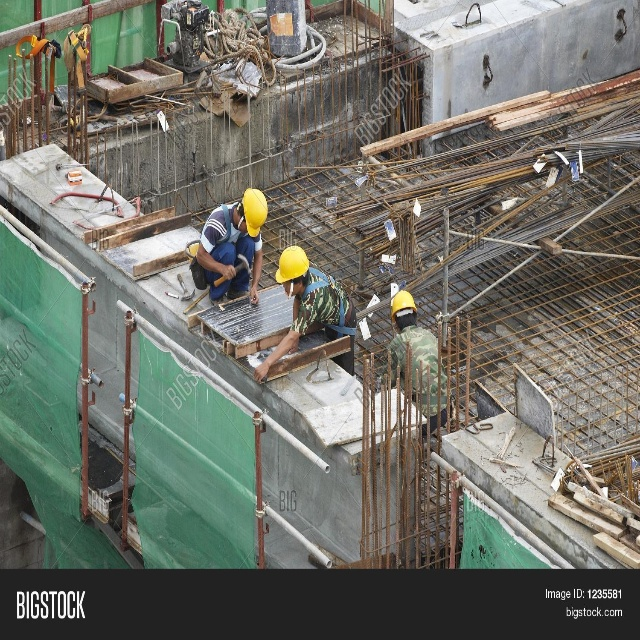Arnes_seguridad: (204, 198, 256, 304), (295, 269, 362, 341)
